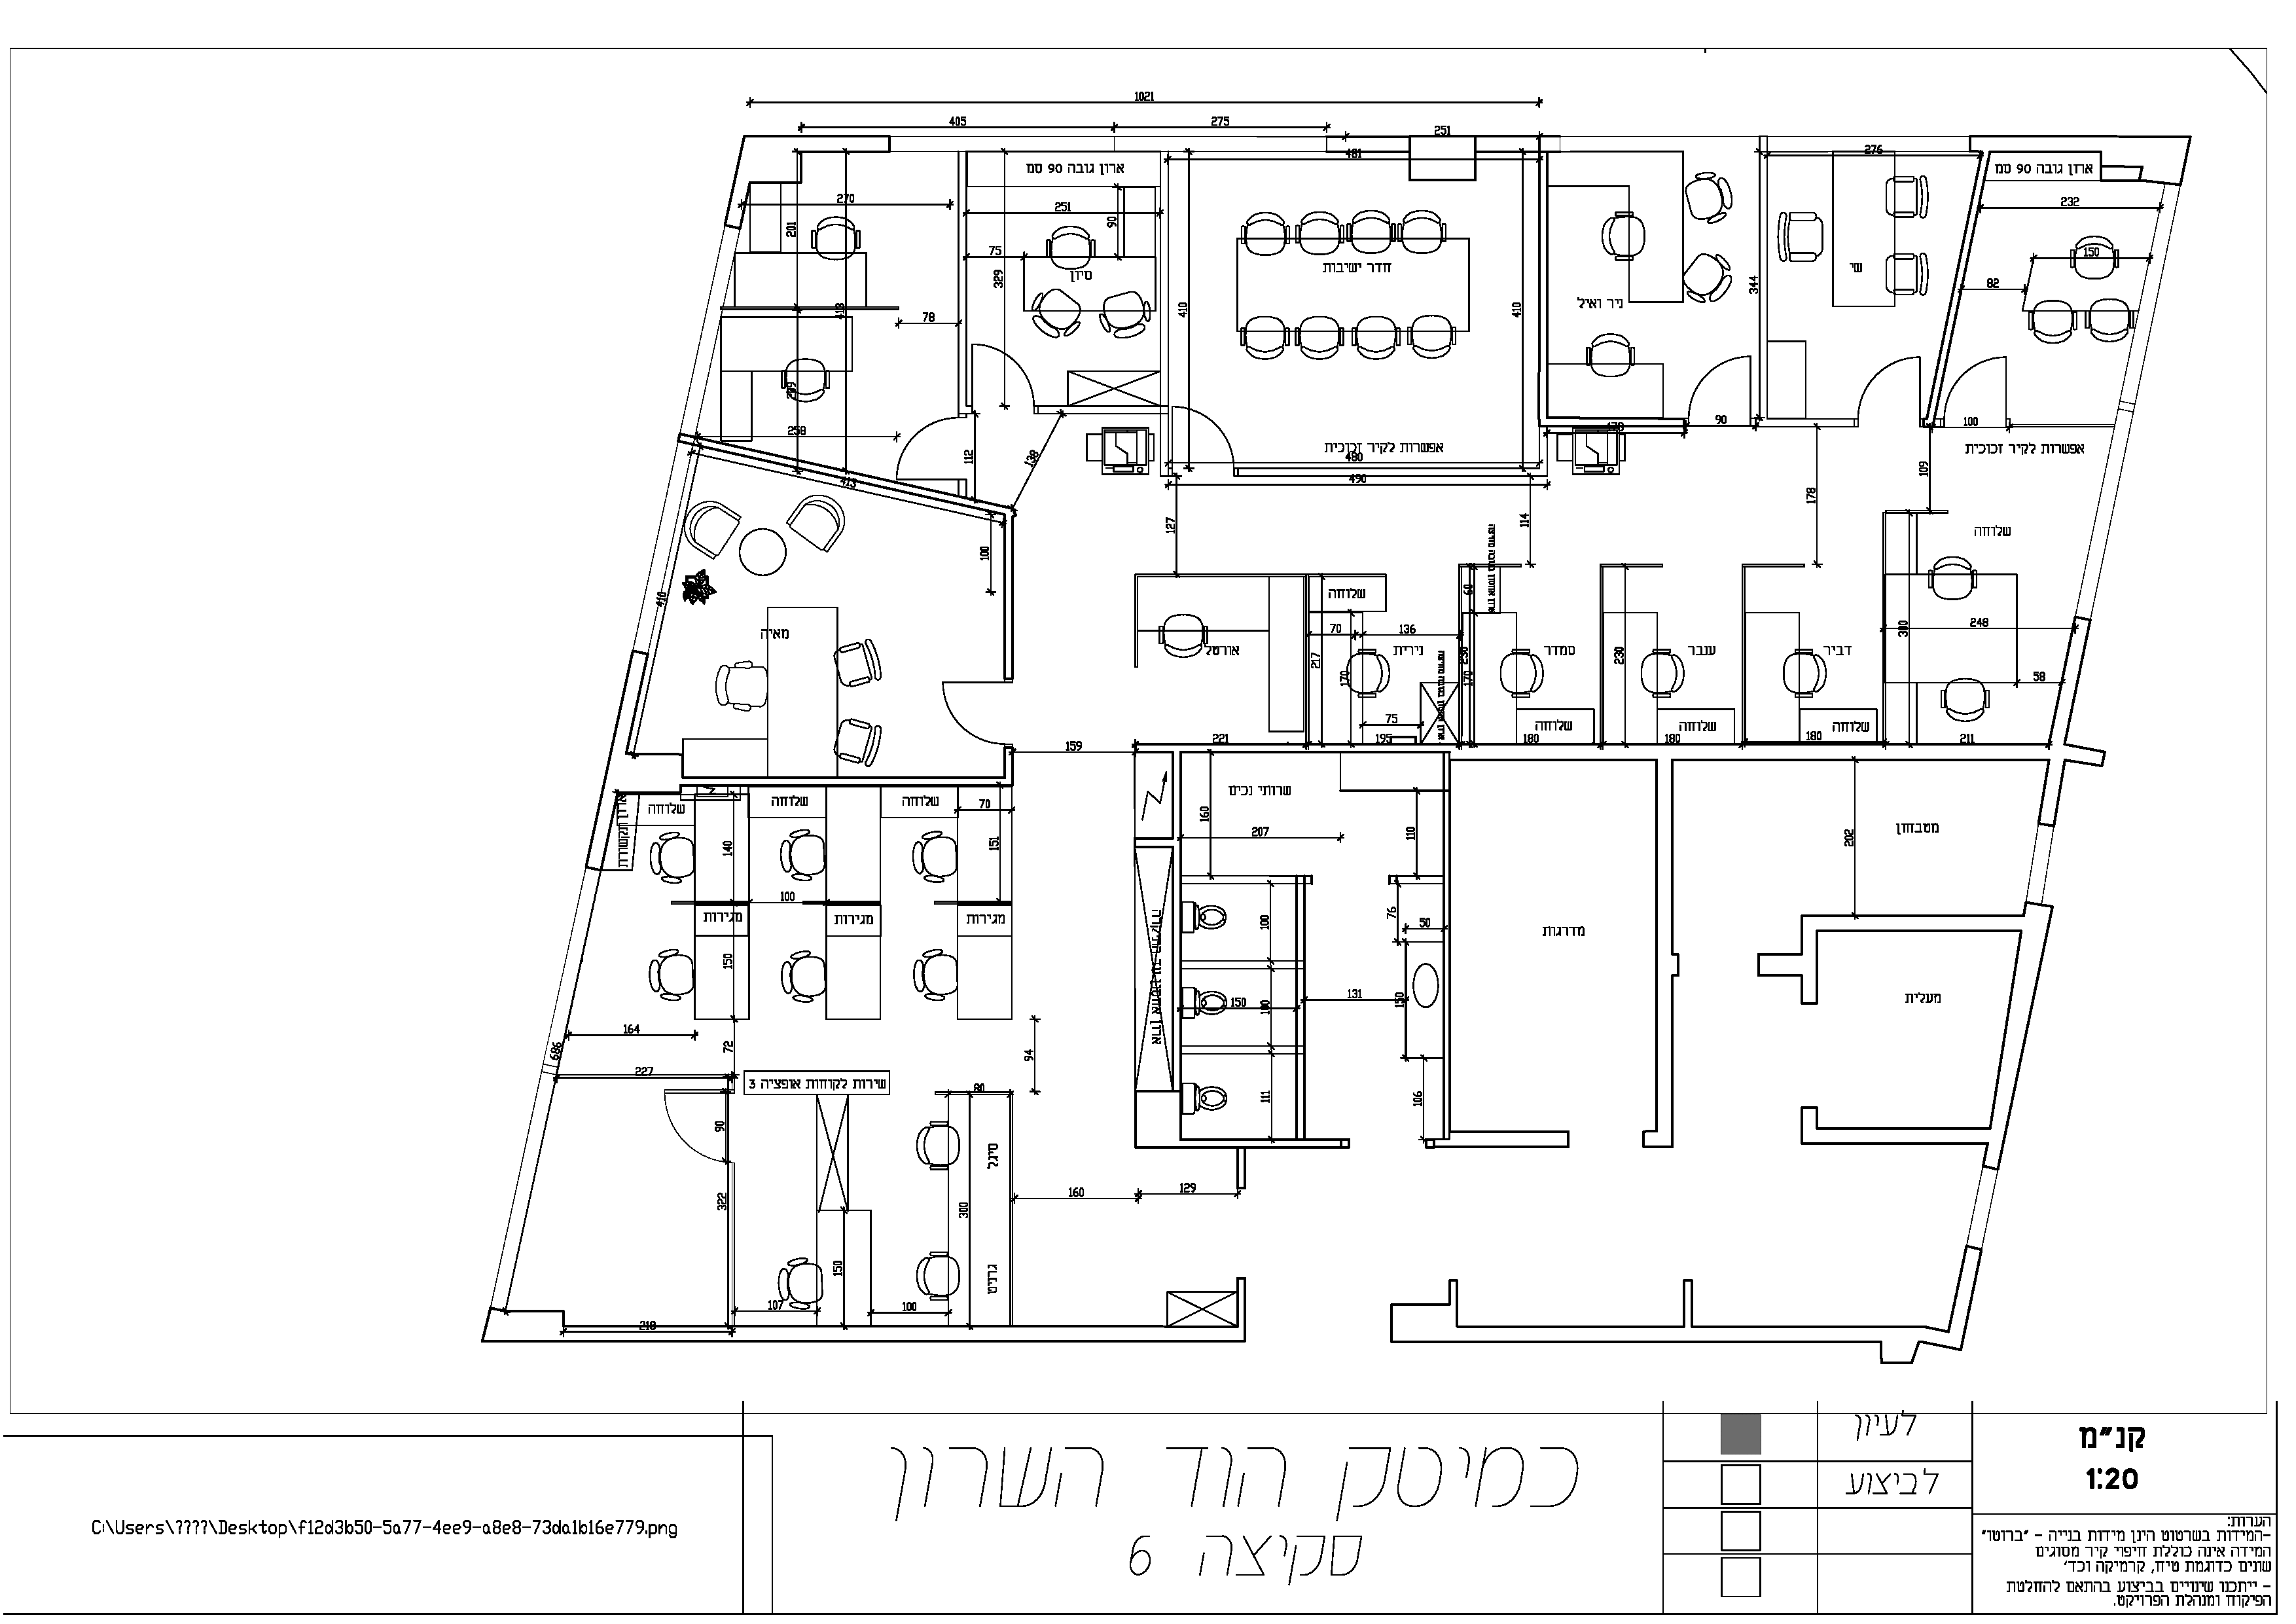door: (929, 659, 998, 758), (650, 1084, 711, 1172), (1685, 339, 1755, 415), (1852, 352, 1925, 410), (970, 334, 1035, 399), (894, 413, 952, 485), (1952, 352, 2015, 411), (1170, 404, 1238, 459)
